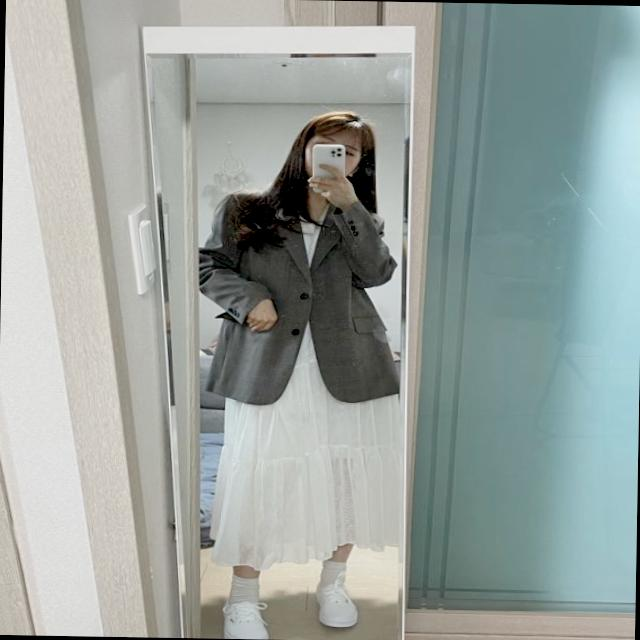blazer: (193, 176, 404, 405)
skirt: (208, 324, 410, 570)
